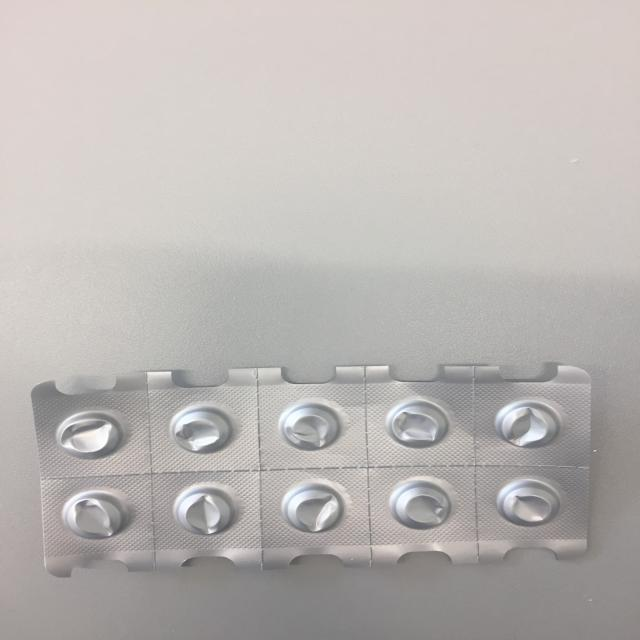Empty: (55, 486, 136, 545), (487, 476, 568, 534), (378, 395, 456, 454), (276, 476, 350, 536), (166, 481, 238, 542), (163, 402, 240, 459), (272, 398, 348, 455), (52, 406, 128, 462), (382, 478, 459, 532), (492, 397, 564, 452)
